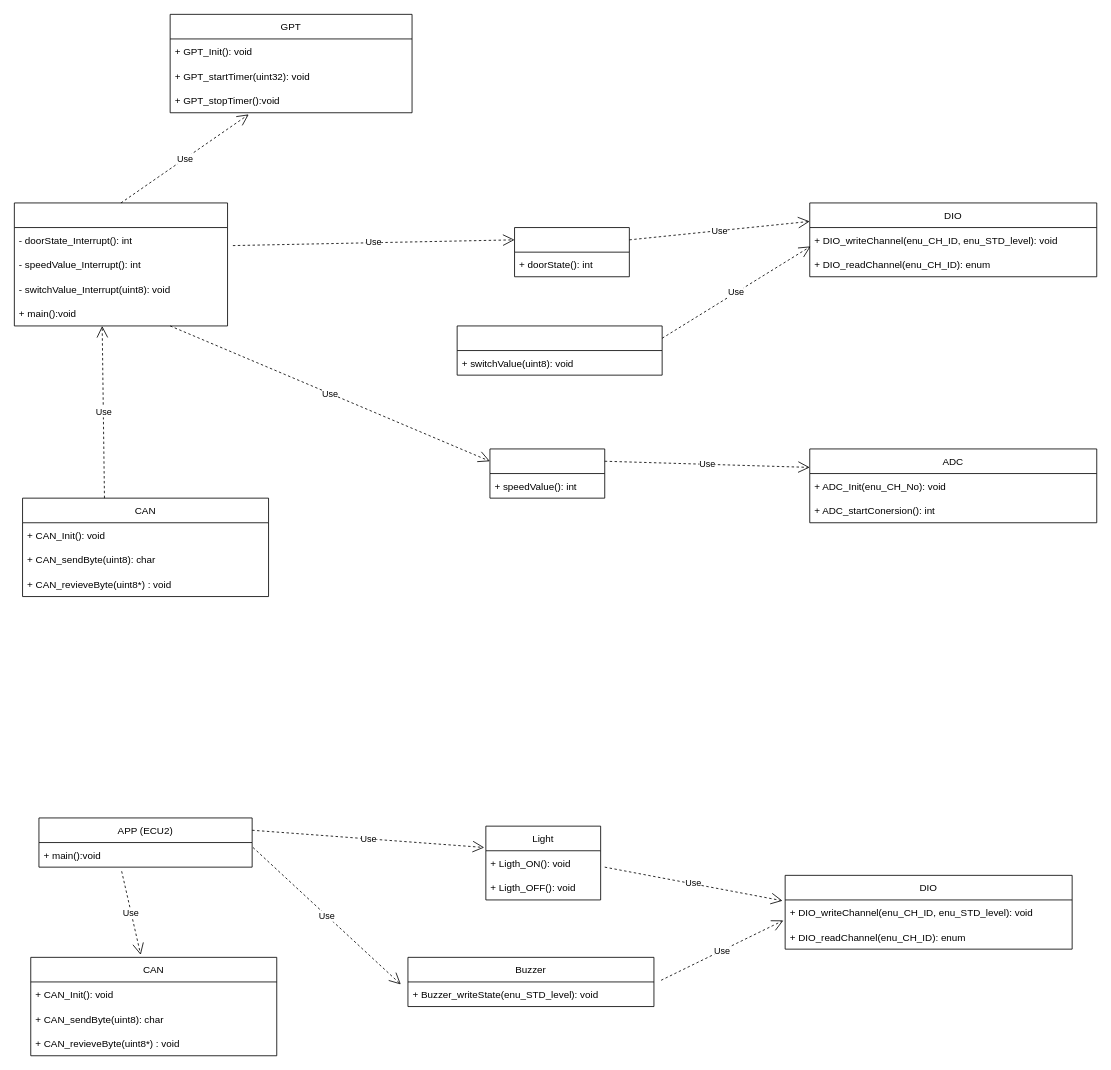
This 1111x1070 diagram has some shape labels left out. The box of each missing label's shape, as (x1, y1, x2, y2) in pixels:
APP (ECU1): (14, 202, 228, 326)
Door Sensor: (514, 227, 629, 277)
Light switch: (456, 325, 662, 375)
Speed Sensor: (489, 448, 605, 498)
